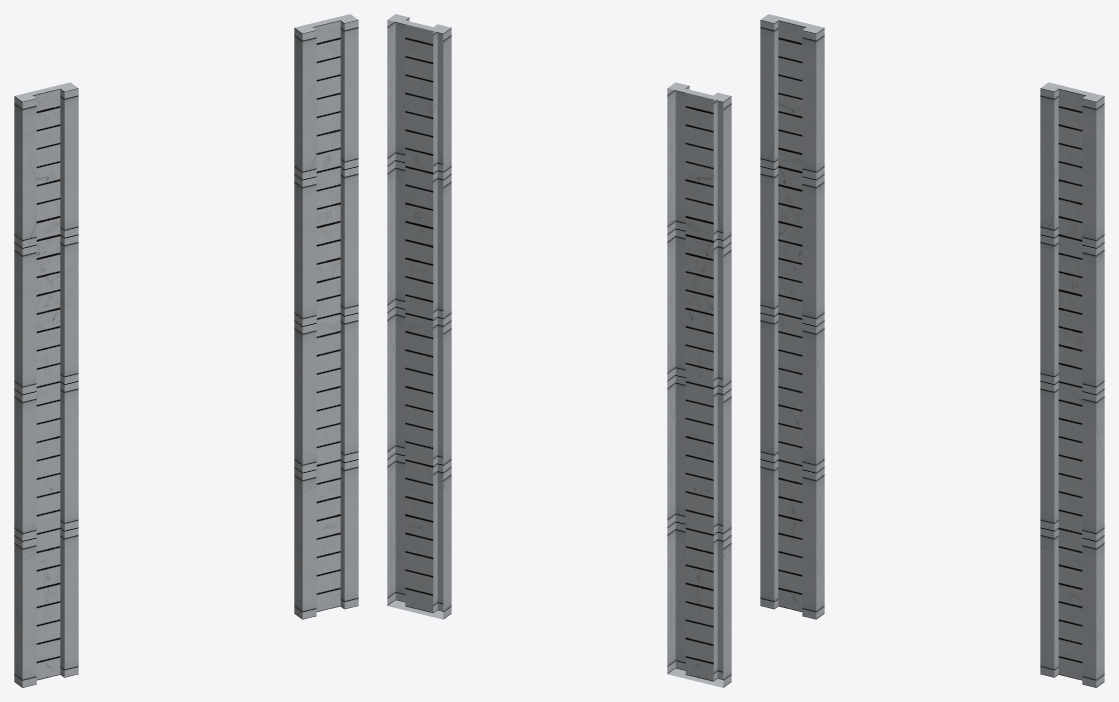
The model's file is Lift_01_Conveyor.FBX.
The picture shows the model from 3 angles, left to right: view 1: azimuth 30°, elevation 25°; view 2: azimuth 150°, elevation 25°; view 3: azimuth 330°, elevation 25°; orthographic projection.
Parts seen in each view (by area): view 1: Lift_01_Conveyor; view 2: Lift_01_Conveyor; view 3: Lift_01_Conveyor.
Part boxes in pixels (bbox=[...]): Lift_01_Conveyor: bbox=[14, 14, 358, 687]; Lift_01_Conveyor: bbox=[387, 14, 731, 687]; Lift_01_Conveyor: bbox=[760, 14, 1104, 687].
Bounding box in the file's own units: 2.4 × 4 × 0.1.
2 materials, 2 textured.
